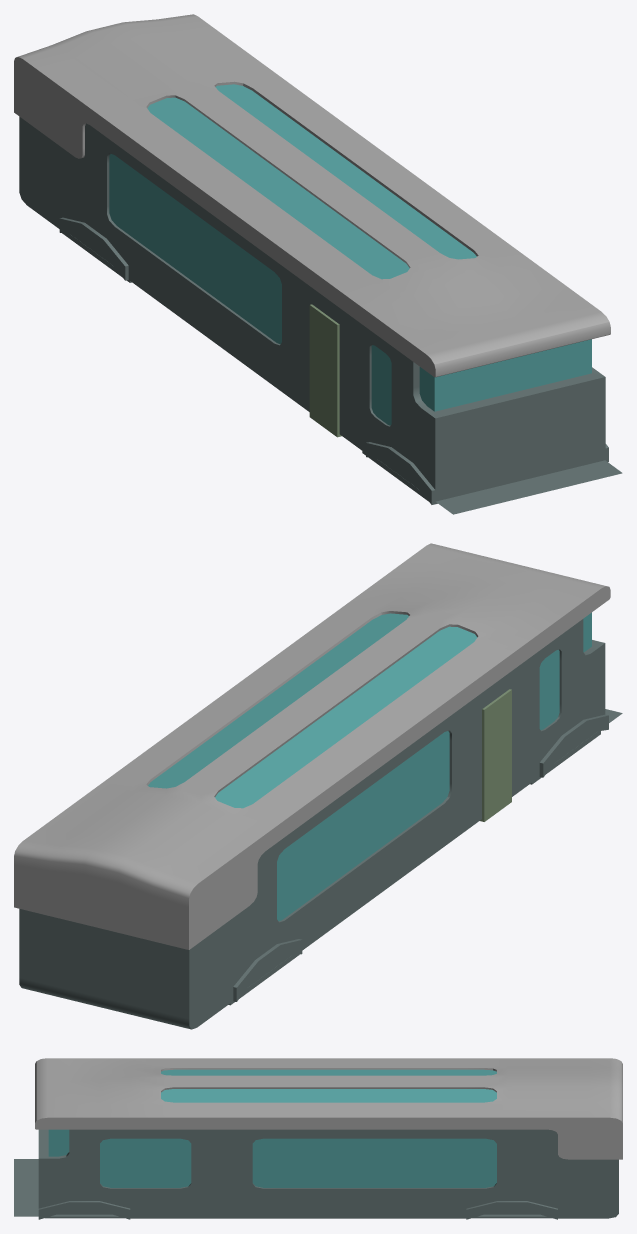
Rendered from bus_final_interior.fbx.
3 views of the same model, one above another, from view 1: azimuth 30°, elevation 25°; view 2: azimuth 150°, elevation 25°; view 3: azimuth 270°, elevation 25° (orthographic). The views are drawn at different scales.
Parts seen in each view (by area): view 1: pCube1, pPlane1; view 2: pCube1; view 3: pCube1, pPlane1, pCube30, pCube26.
Part boxes in pixels (left/top/right/bottom): pCube1: left=14, top=14, right=610, bottom=504; pPlane1: left=71, top=235, right=622, bottom=514; pCube1: left=14, top=543, right=610, bottom=1029; pCube1: left=35, top=1058, right=622, bottom=1219; pPlane1: left=14, top=1159, right=546, bottom=1216; pCube30: left=45, top=1211, right=124, bottom=1218; pCube26: left=472, top=1211, right=551, bottom=1218.
Bounding box in the file's own units: 14.84 × 12.61 × 63.3.
